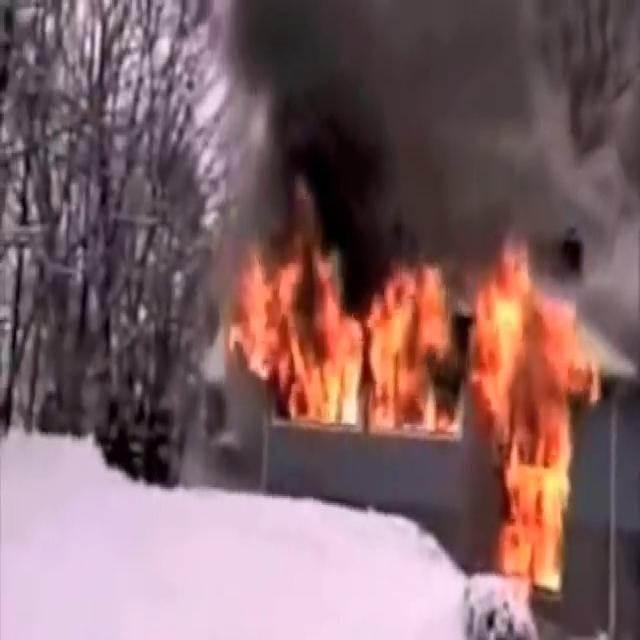Fire: (221, 208, 596, 604)
Smoke: (204, 0, 596, 252)
